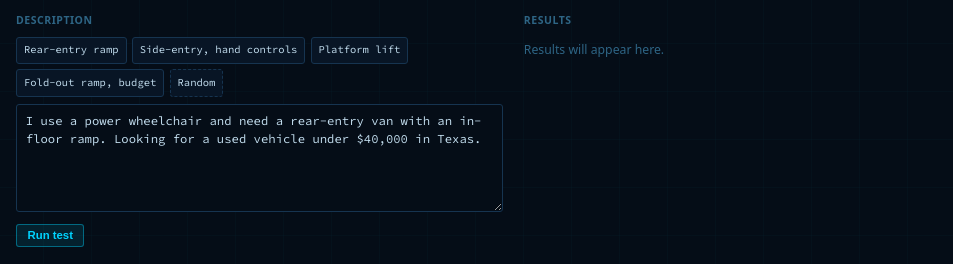
IntakeTestPanel › should show the error text when the network request rejects
Click the button "Run test": [50, 235] box [16,224,84,247]
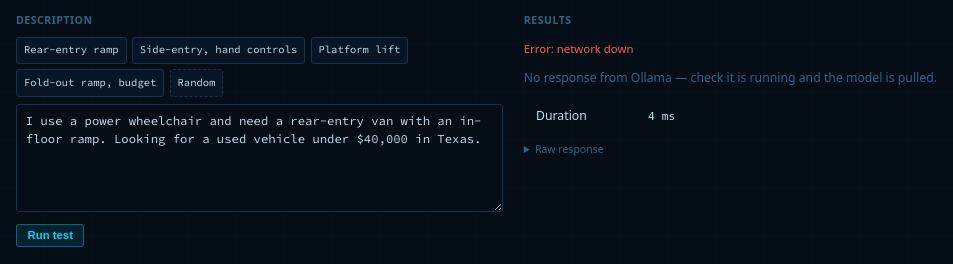
Result: the text "Error: network down" is shown at [524,41,634,56]
